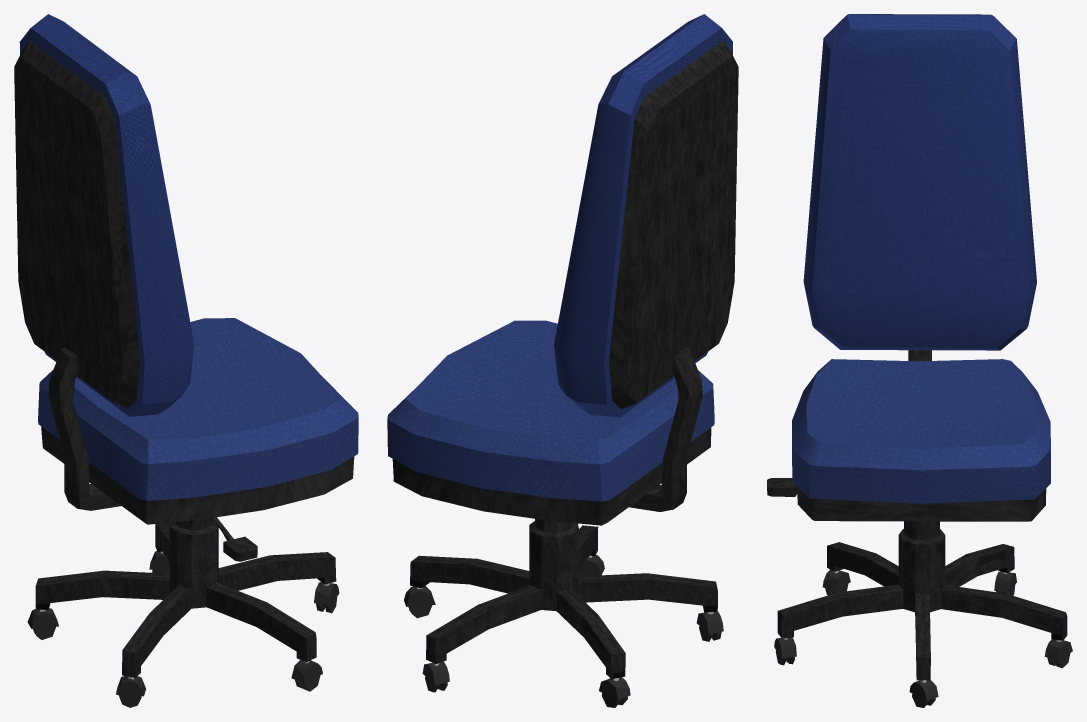
The model's file is RetroChair.fbx.
The picture shows the model from 3 angles, left to right: view 1: azimuth 30°, elevation 25°; view 2: azimuth 150°, elevation 25°; view 3: azimuth 270°, elevation 25°; orthographic projection. The views are drawn at different scales.
Parts seen in each view (by area): view 1: Retro Office Chair; view 2: Retro Office Chair; view 3: Retro Office Chair.
Boxes of the visible parts, x1,y1,x2,y2 form: Retro Office Chair: (14,14,358,707); Retro Office Chair: (387,14,738,707); Retro Office Chair: (767,14,1072,707).
Bounding box in the file's own units: 50.67 × 105 × 50.03.
